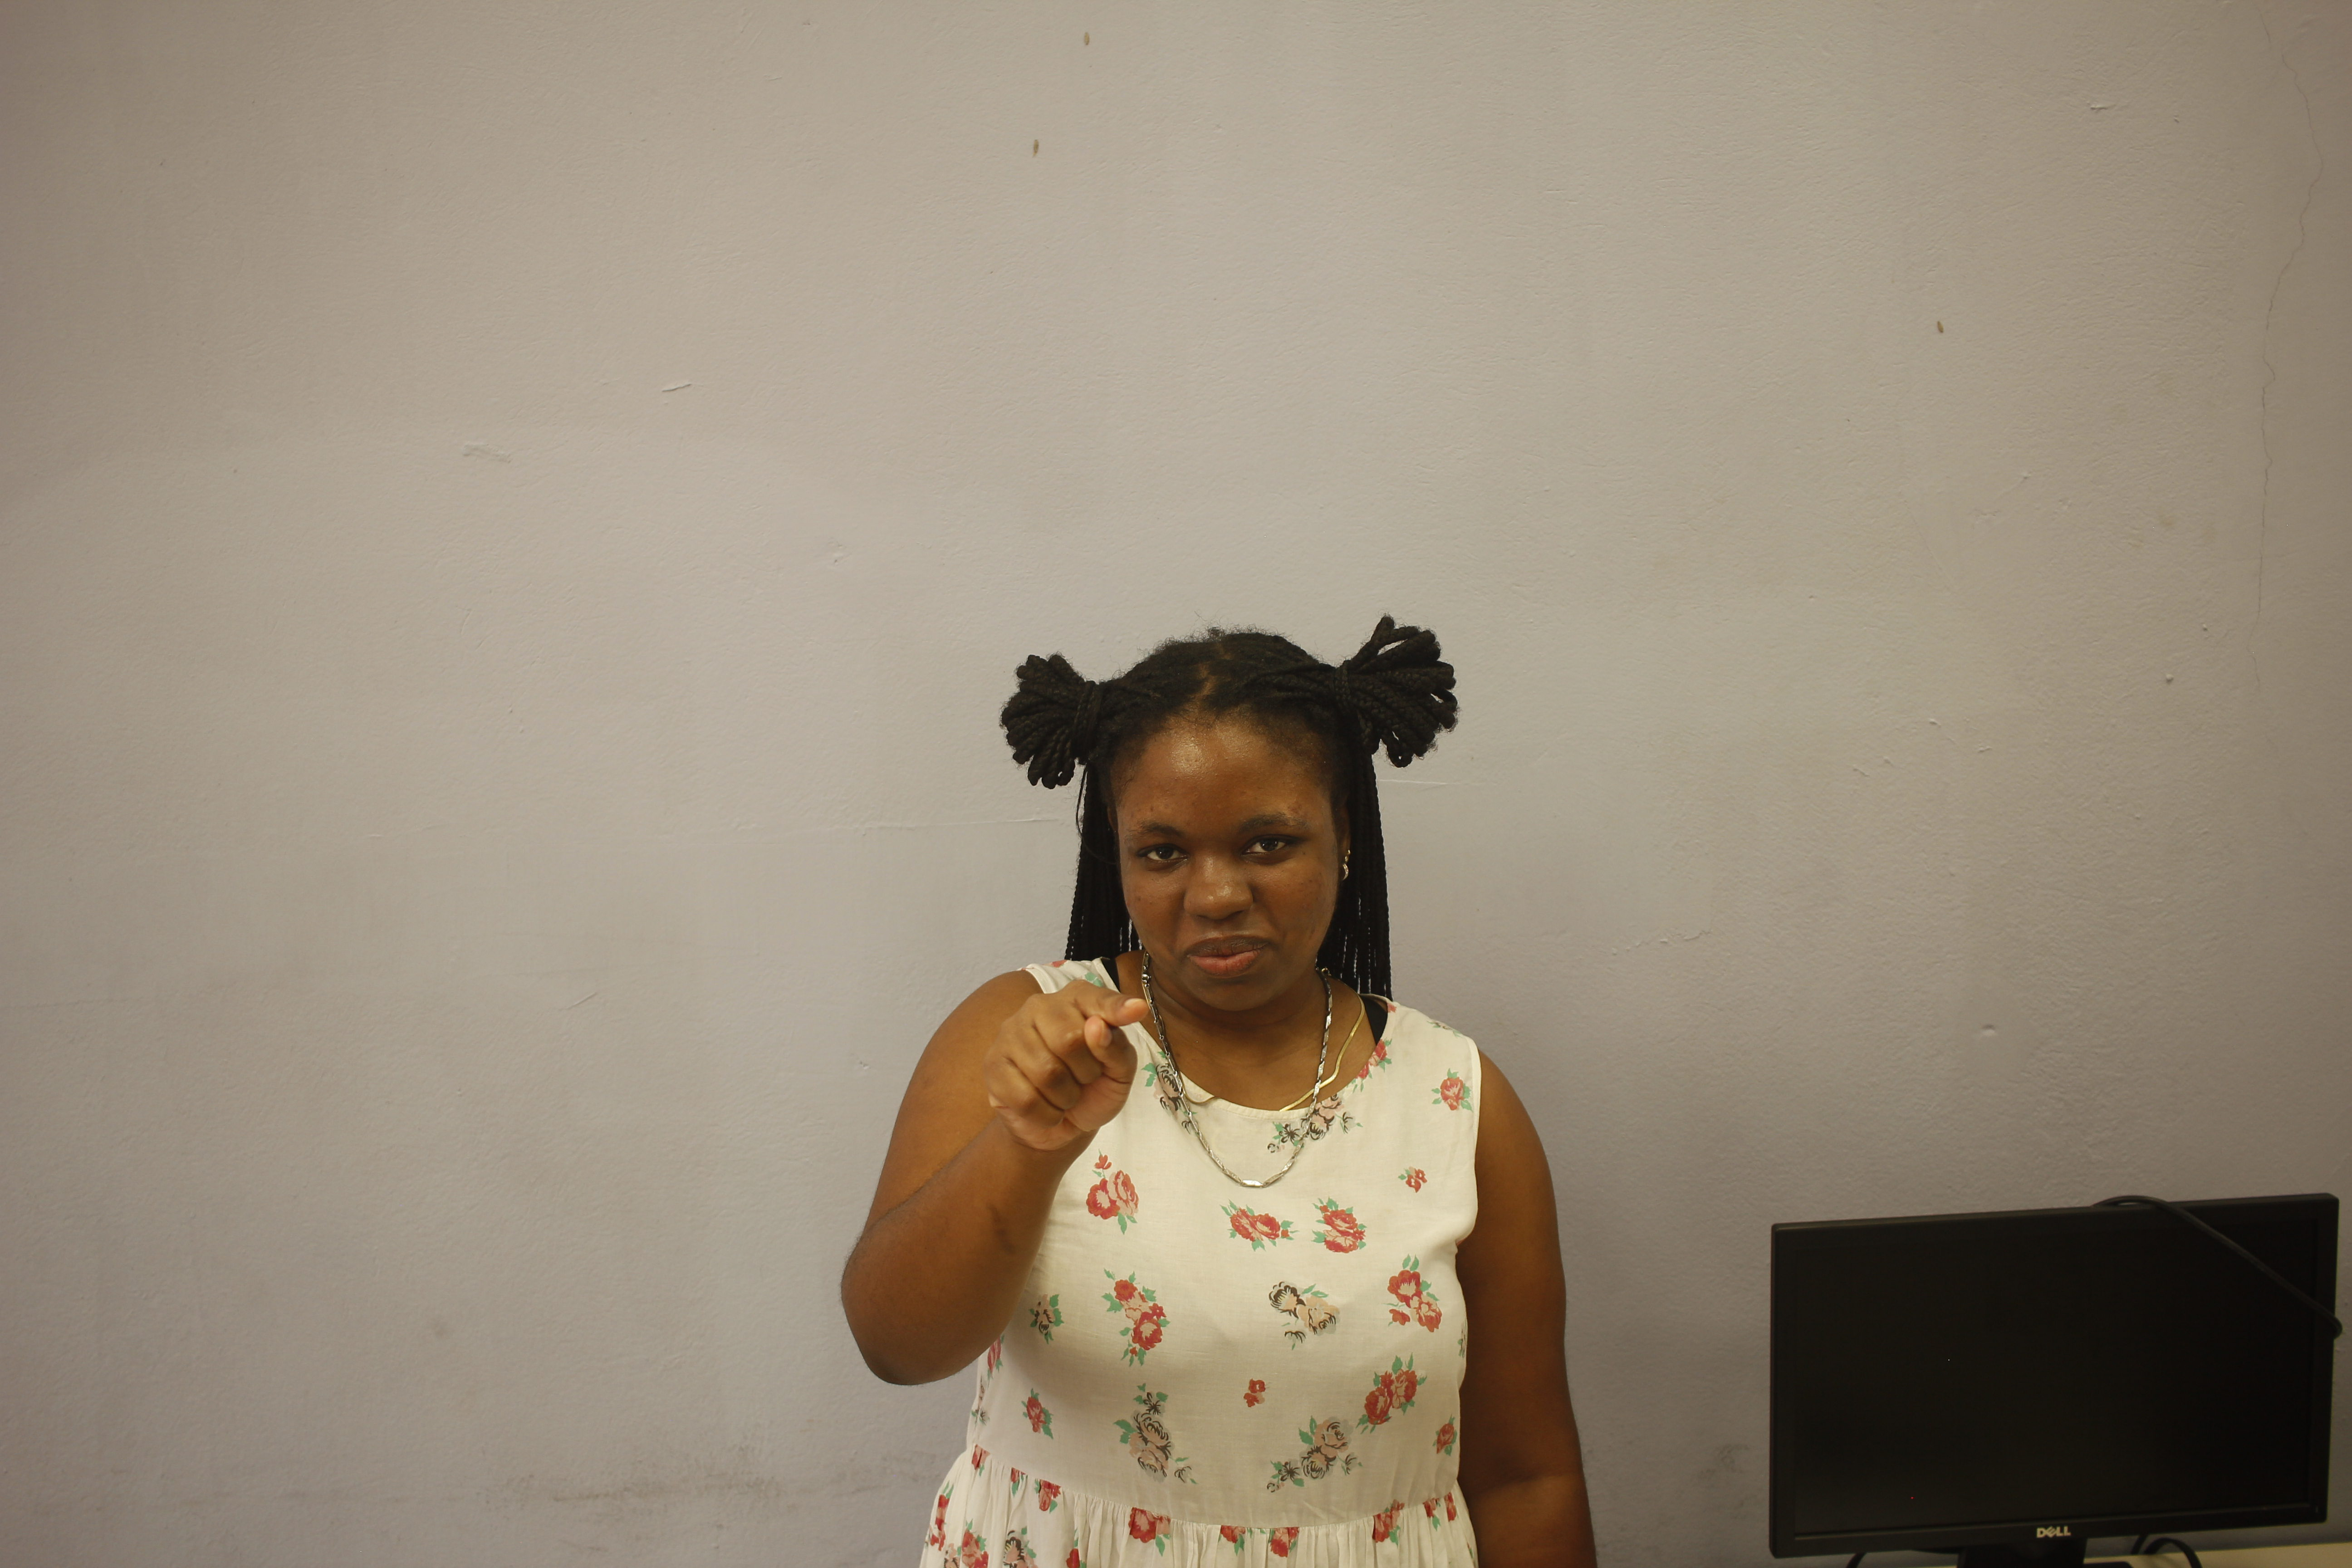Z: (975, 959, 1153, 1164)
